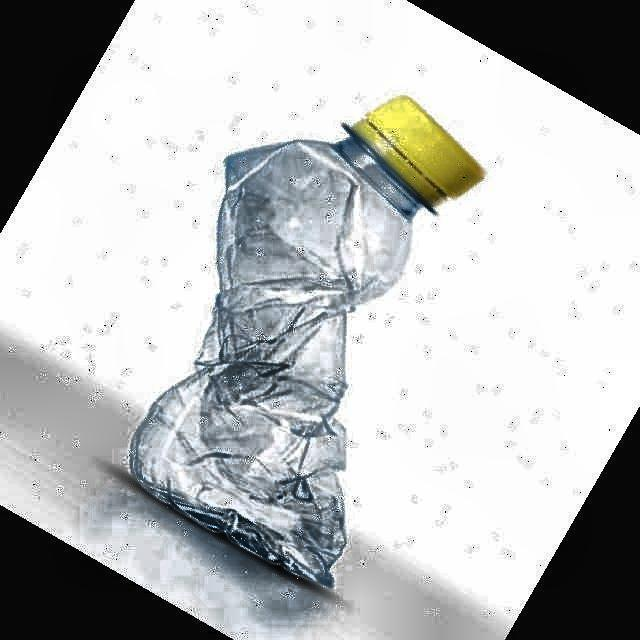plastic: (131, 96, 484, 587)
